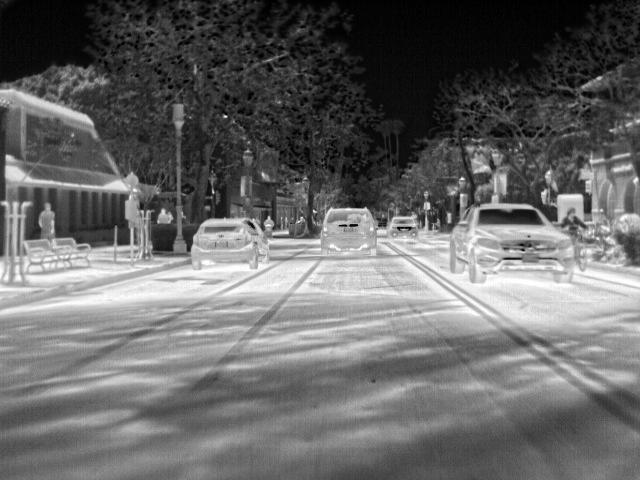car: (446, 204, 574, 283), (190, 217, 270, 272), (320, 205, 382, 260), (386, 216, 419, 241)
person: (556, 208, 593, 242), (37, 200, 56, 241), (262, 215, 278, 239), (155, 206, 172, 226)
